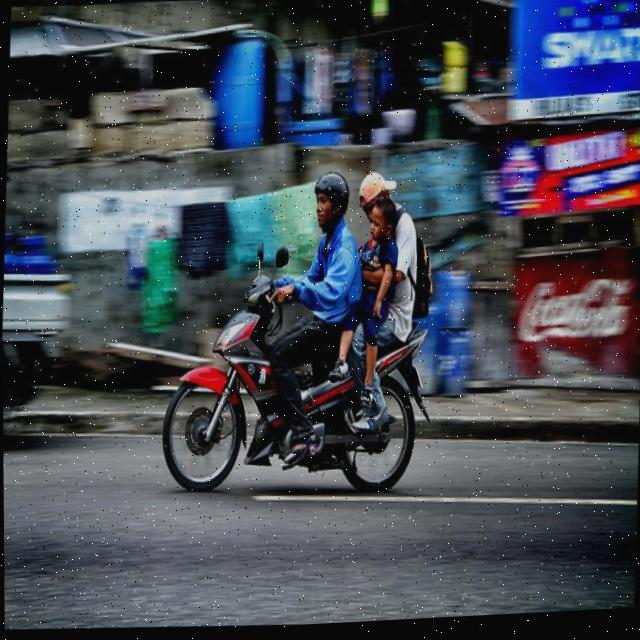motorcycle: (148, 229, 436, 508)
